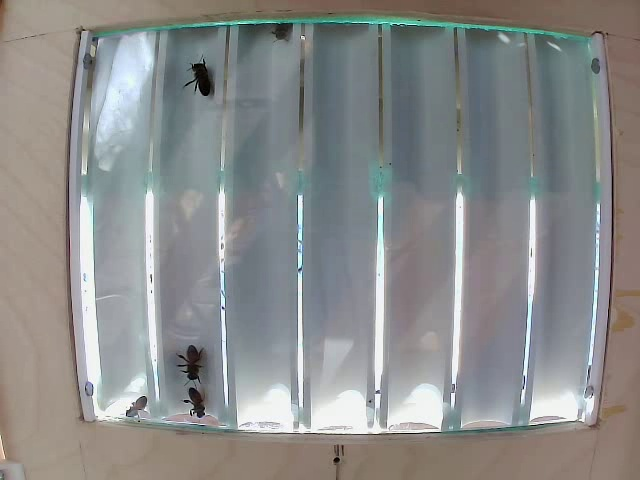bee: (189, 51, 221, 105), (172, 332, 204, 378), (183, 382, 212, 403)
